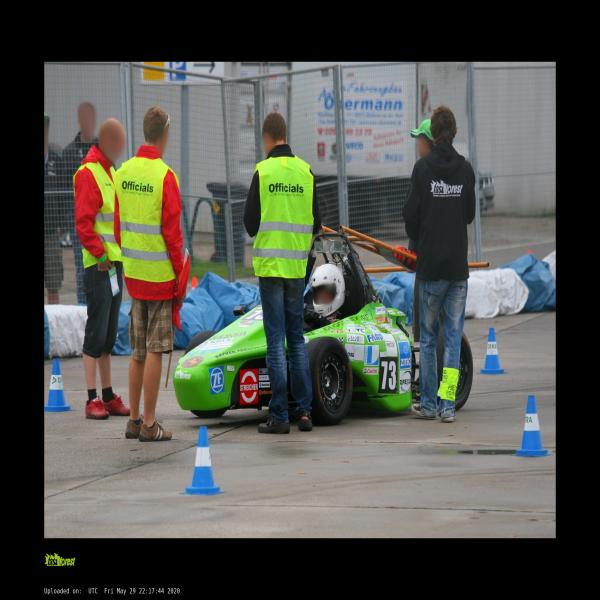blue_cone: (182, 426, 223, 493), (516, 395, 548, 457), (44, 359, 71, 412), (480, 328, 505, 375)
